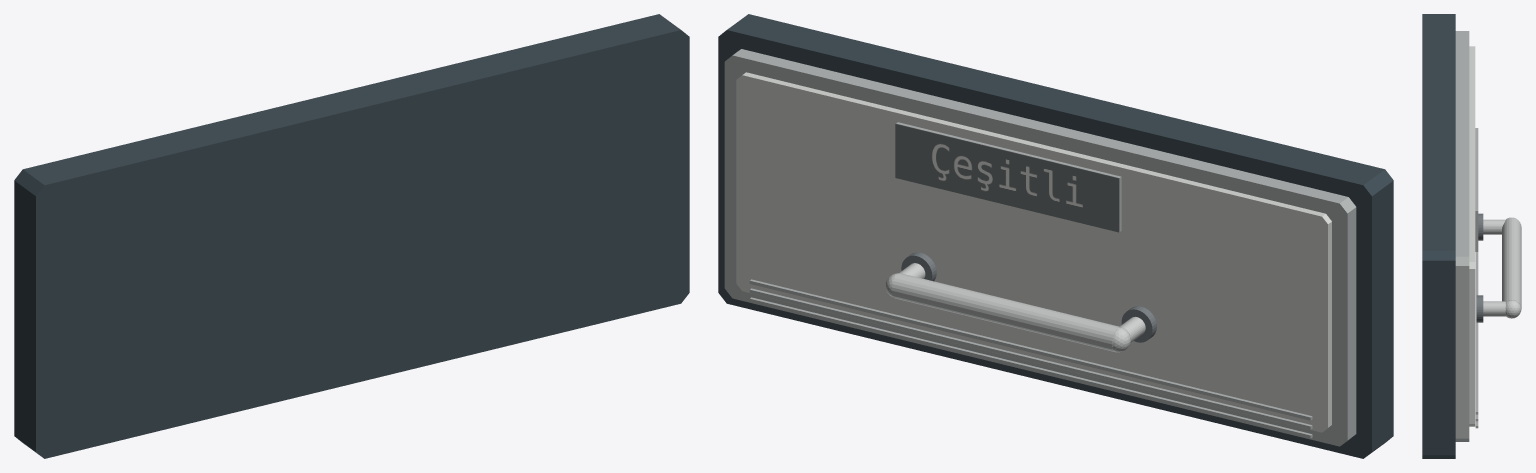
The model's file is CESITLI_CEKMECESI_19_REV2.glb.
3 renders of one model, left to right at view 1: azimuth 30°, elevation 25°; view 2: azimuth 150°, elevation 25°; view 3: azimuth 270°, elevation 25°, orthographic. The views are drawn at different scales.
Visible parts, largest first — view 1: Drawer_frame; view 2: Drawer_inner_recess, Drawer_frame, DRAWER_MOVING_FRONT, Drawer_label_text, DRAWER_HANDLE, Lower_drawer_trim_0.28, Lower_drawer_trim_0.18, Lower_drawer_trim_0.23, Drawer_label_dark; view 3: Drawer_frame, DRAWER_MOVING_FRONT, Drawer_inner_recess, DRAWER_HANDLE, Lower_drawer_trim_0.28, Drawer_label_dark, Handle_standoff_0.64, Handle_standoff_-0.64, Handle_end_0.64, Handle_mount_0.64, Handle_mount_-0.64.
Part boxes in pixels (x1=…): Drawer_frame: x1=14, y1=14, x2=689, y2=458; Drawer_inner_recess: x1=736, y1=72, x2=1331, y2=432; Drawer_frame: x1=718, y1=14, x2=1393, y2=458; DRAWER_MOVING_FRONT: x1=724, y1=49, x2=1356, y2=446; Drawer_label_text: x1=895, y1=124, x2=1118, y2=232; DRAWER_HANDLE: x1=891, y1=273, x2=1121, y2=352; Lower_drawer_trim_0.28: x1=749, y1=279, x2=1312, y2=420; Lower_drawer_trim_0.18: x1=749, y1=297, x2=1312, y2=438; Lower_drawer_trim_0.23: x1=749, y1=288, x2=1312, y2=429; Drawer_label_dark: x1=896, y1=122, x2=1121, y2=231; Drawer_frame: x1=1422, y1=14, x2=1455, y2=458; DRAWER_MOVING_FRONT: x1=1455, y1=31, x2=1469, y2=441; Drawer_inner_recess: x1=1469, y1=46, x2=1475, y2=426; DRAWER_HANDLE: x1=1502, y1=218, x2=1521, y2=310; Lower_drawer_trim_0.28: x1=1475, y1=252, x2=1478, y2=414; Drawer_label_dark: x1=1475, y1=128, x2=1478, y2=251; Handle_standoff_0.64: x1=1483, y1=301, x2=1505, y2=316; Handle_standoff_-0.64: x1=1483, y1=219, x2=1505, y2=234; Handle_end_0.64: x1=1505, y1=300, x2=1521, y2=318; Handle_mount_0.64: x1=1476, y1=295, x2=1483, y2=322; Handle_mount_-0.64: x1=1478, y1=213, x2=1483, y2=240.
Size of the model in its own units: 3.8 by 1.52 by 0.655.
Materials: 6 (1 with a texture image).
